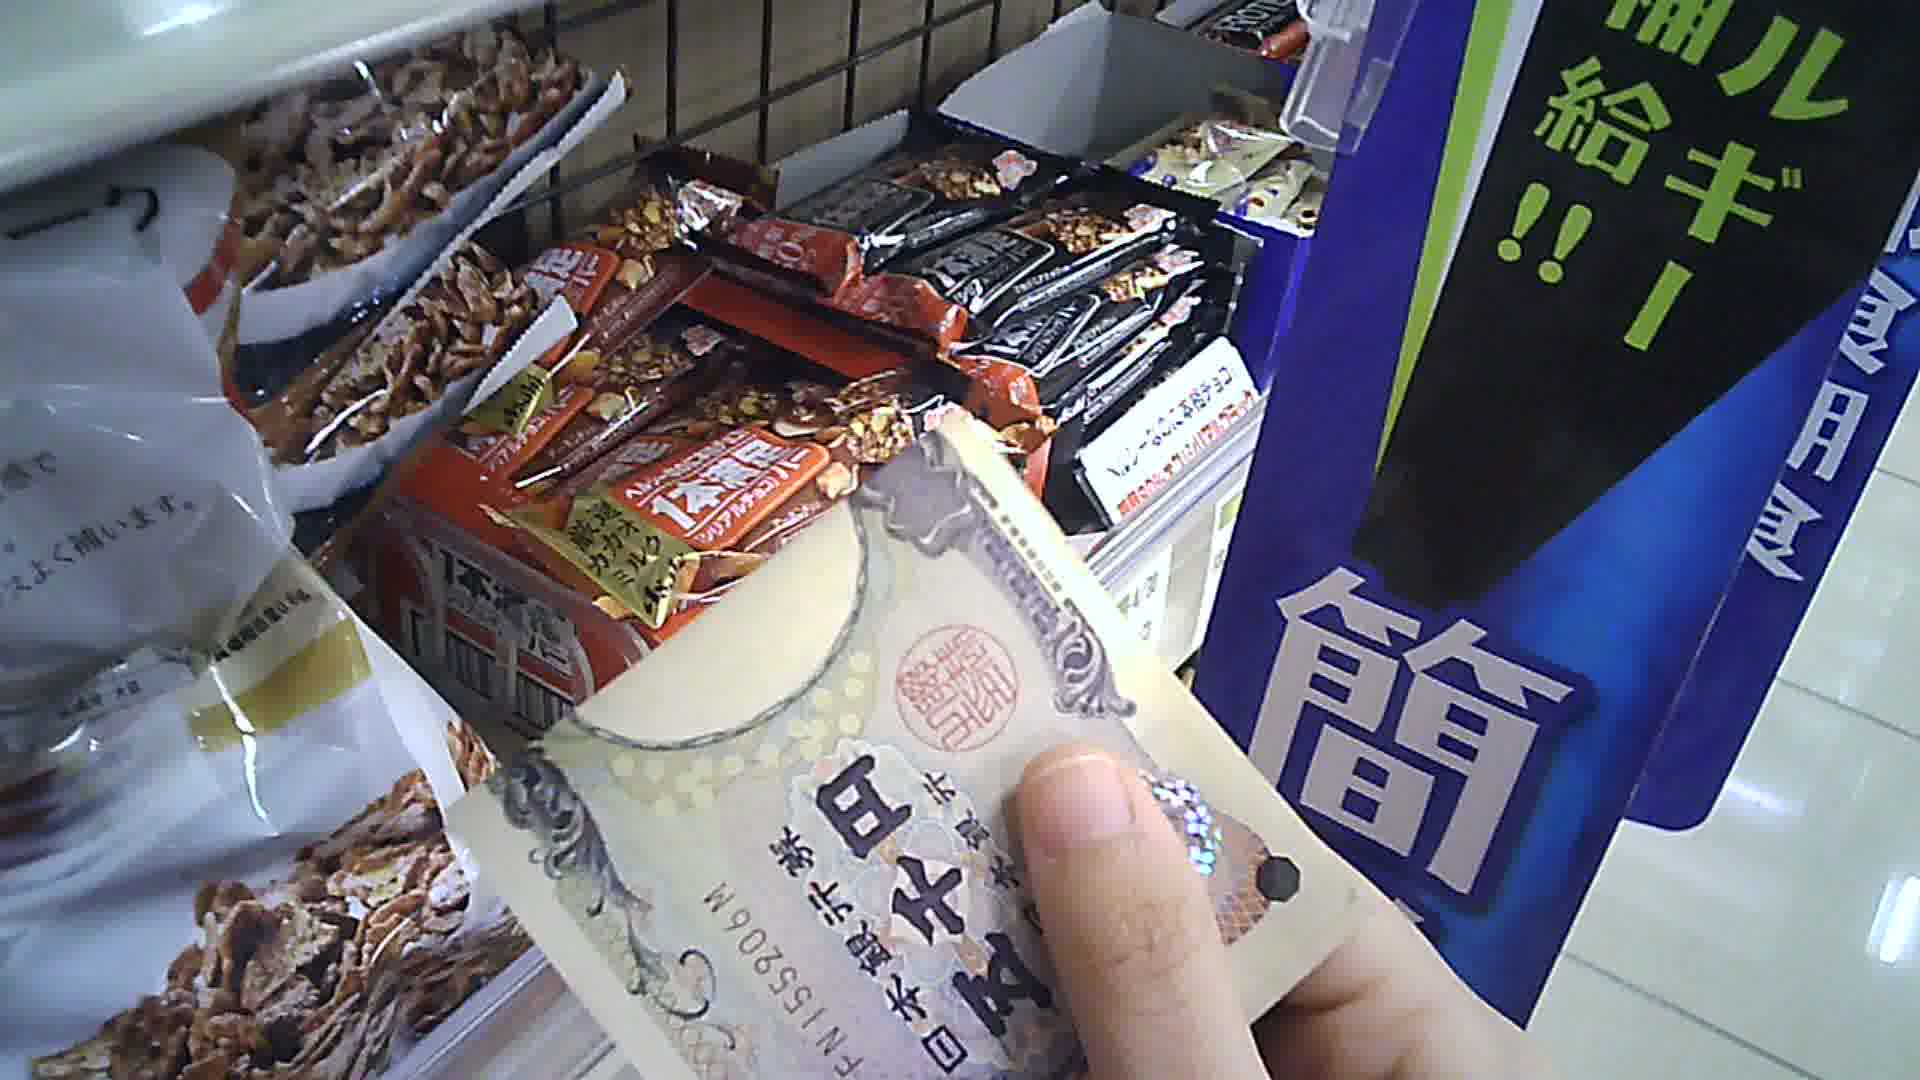5,000 Yen: (446, 417, 1329, 1062)
